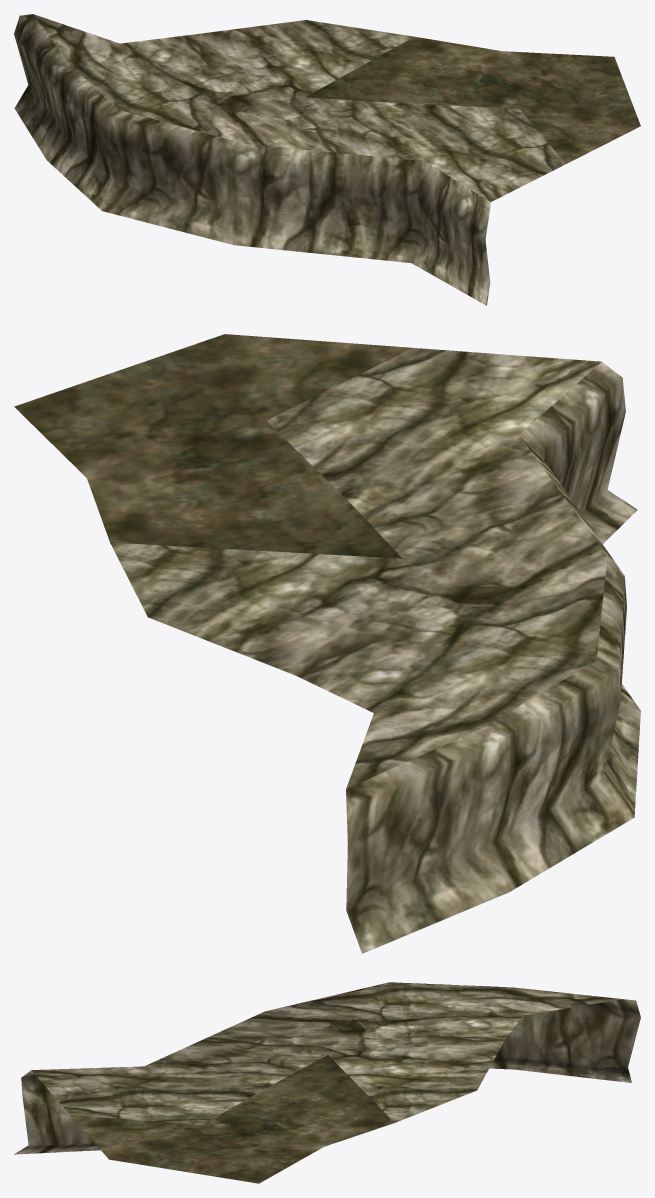
Rendered from CB_NEWPLAYSURFACE_CB_PLAYSURFACE70.fbx.
3 renders of one model, top to bottom at view 1: azimuth 30°, elevation 25°; view 2: azimuth 150°, elevation 25°; view 3: azimuth 270°, elevation 25°, orthographic. The views are drawn at different scales.
Parts seen in each view (by area): view 1: CB_NEWPLAYSURFACE_CB_PLAYSURFACE70; view 2: CB_NEWPLAYSURFACE_CB_PLAYSURFACE70; view 3: CB_NEWPLAYSURFACE_CB_PLAYSURFACE70.
Boxes of the visible parts, x1,y1,x2,y2 form: CB_NEWPLAYSURFACE_CB_PLAYSURFACE70: [14, 14, 640, 305]; CB_NEWPLAYSURFACE_CB_PLAYSURFACE70: [14, 334, 640, 953]; CB_NEWPLAYSURFACE_CB_PLAYSURFACE70: [14, 982, 640, 1183].
Bounding box in the file's own units: 156795 × 32112 × 197990.
Materials: 3 (3 with a texture image).
